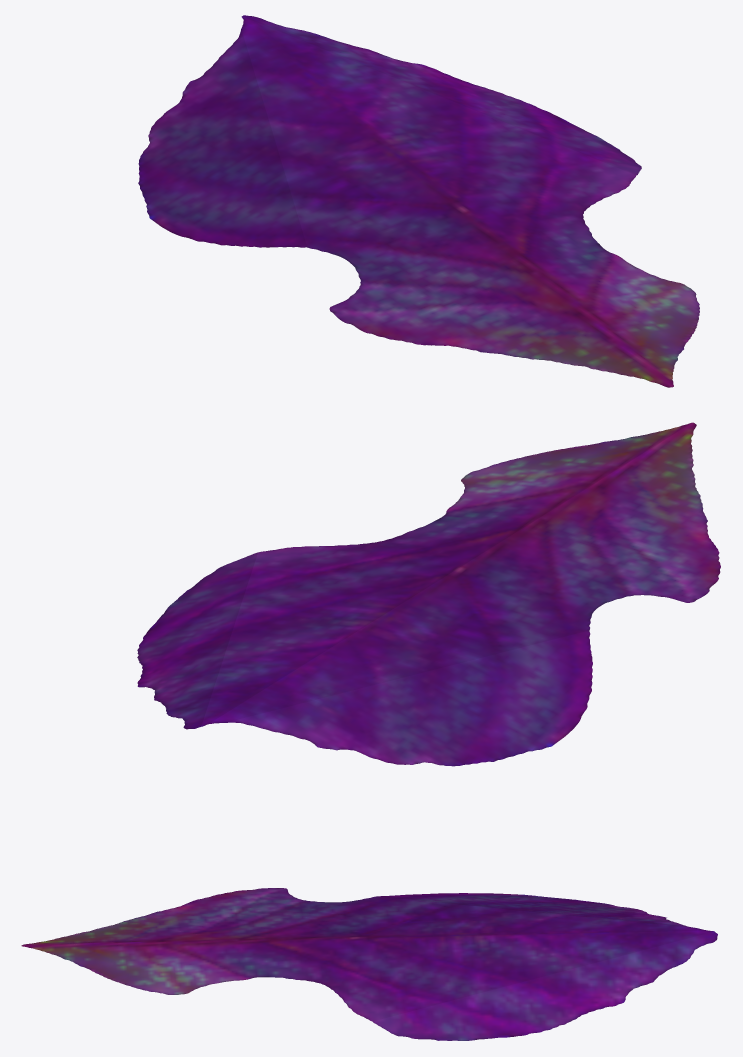
File: Row Root Leaf C.fbx
3 views of the same model, one above another, from view 1: azimuth 30°, elevation 25°; view 2: azimuth 150°, elevation 25°; view 3: azimuth 270°, elevation 25° (orthographic). The views are drawn at different scales.
Parts seen in each view (by area): view 1: Row Root Leaf C; view 2: Row Root Leaf C; view 3: Row Root Leaf C.
Part boxes in pixels (x1,y1,x2,y2): Row Root Leaf C: (138,15,699,387); Row Root Leaf C: (137,422,720,766); Row Root Leaf C: (21,888,717,1040).
Bounding box in the file's own units: 45.5 × 7.19 × 83.88.
